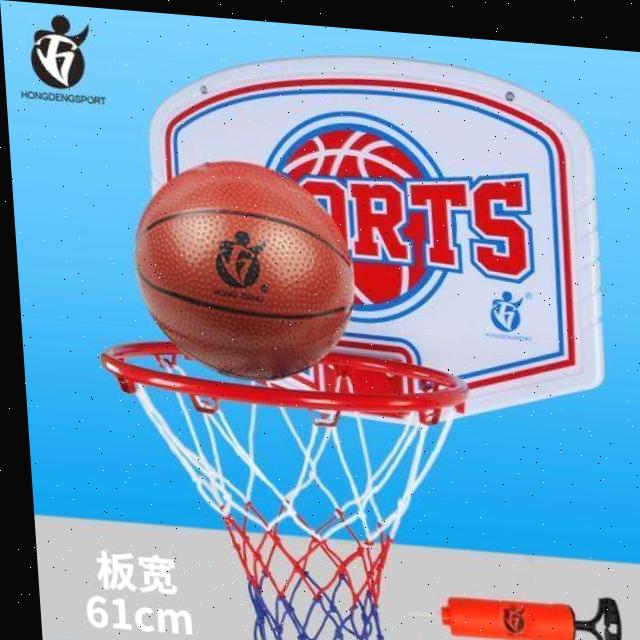Basketball: (128, 155, 361, 385)
